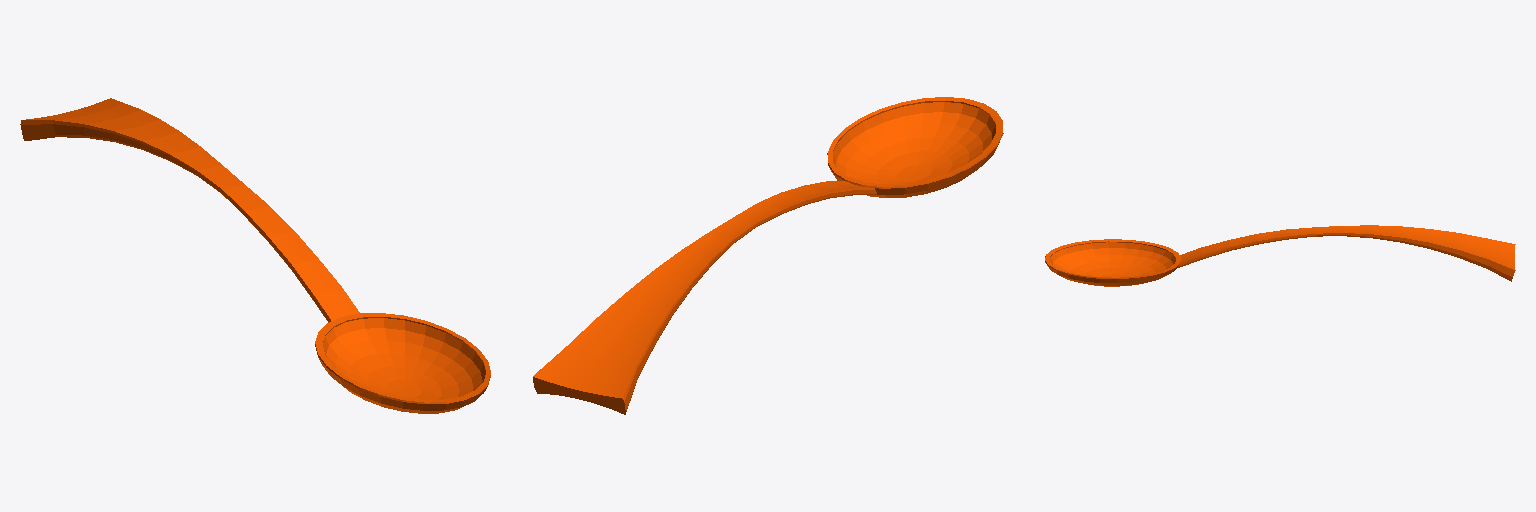
robot.urdf — Spoon_dfd87854f4686dffabeb890a269504bb:
<?xml version="1.0" ?>
<robot name="Spoon_dfd87854f4686dffabeb890a269504bb">
   <material name="obj_color">
      <color rgba="1.0 0.423529411765 0.0392156862745 1.0"/>
   </material>
   <link name="top">
      <inertial>
         <origin rpy="5.019748336702564e-07 1.400303626037043e-05 1.427863762614645e-05" xyz="0.0001389044383980386 0.008222752517133836 -0.0007637591443321936"/>
         <mass value="0.01604844839170148"/>
         <inertia ixx="1.400302944411735e-05" ixy="9.627414800740089e-09" ixz="3.574859064805167e-10" iyy="5.099683477428111e-07" iyz="-3.316103324627145e-07" izz="1.427065092832698e-05"/>
      </inertial>
      <visual>
         <origin rpy="0 0 0" xyz="0 0 0"/>
         <geometry>
            <mesh filename="top_watertight_tiny.stl" scale="1 1 1"/>
         </geometry>
         <material name="obj_color"/>
      </visual>
      <collision>
         <origin rpy="0 0 0" xyz="0 0 0"/>
         <geometry>
            <mesh filename="top_watertight_tiny.obj" scale="1 1 1"/>
         </geometry>
      </collision>
   </link>
   <link name="bottom">
      <inertial>
         <origin rpy="1.633333333199431e-08 1.633333333199431e-08 1.633333333362855e-08" xyz="0.3464080000000008 0.3464080000000008 0.3464080000000008"/>
         <mass value="0.0009800000000000017"/>
         <inertia ixx="1.633333333253906e-08" ixy="5.447480642029219e-19" ixz="5.447480642029219e-19" iyy="1.633333333253906e-08" iyz="5.447480642029219e-19" izz="1.633333333253906e-08"/>
      </inertial>
      <visual>
         <origin rpy="0 0 0" xyz="0 0 0"/>
         <geometry>
            <mesh filename="bottom_watertight_tiny.stl" scale="1 1 1"/>
         </geometry>
         <material name="obj_color"/>
      </visual>
   </link>
   <link name="world"/>
   <joint name="world_to_base" type="fixed">
      <origin xyz="0 0 0"/>
      <axis xyz="0 0 0"/>
      <parent link="world"/>
      <child link="bottom"/>
   </joint>
   <joint name="rotation" type="revolute">
      <origin xyz="0 0 0"/>
      <axis xyz="0 0 -1"/>
      <parent link="bottom"/>
      <child link="top"/>
      <dynamics damping="1.0" friction="1.0"/>
      <limit effort="0.1" velocity="0.1" lower="0" upper="0.001"/>
   </joint>
</robot>

--- Facts derived from the render (not from the file) ---
3 views of the same robot in one strip: view 1: azimuth 30°, elevation 25°; view 2: azimuth 150°, elevation 25°; view 3: azimuth 270°, elevation 25° (orthographic).
Robot: Spoon_dfd87854f4686dffabeb890a269504bb — 3 links, 2 joints (1 revolute, 1 fixed); root link world; default pose: every joint at zero.
Links seen in each view (by area): view 1: top; view 2: top; view 3: top.
Boxes of the visible links, left/top/right/bottom form: top: left=20, top=98, right=490, bottom=413; top: left=533, top=97, right=1003, bottom=414; top: left=1045, top=225, right=1515, bottom=286.
Bounding box of the posed robot: 0.0231 × 0.1178 × 0.0136 m (x, y, z).
1 mesh visuals loaded from 2 distinct referenced files (1 binary STL); not drawn: 1 (reference not matched to a file when rendering).
